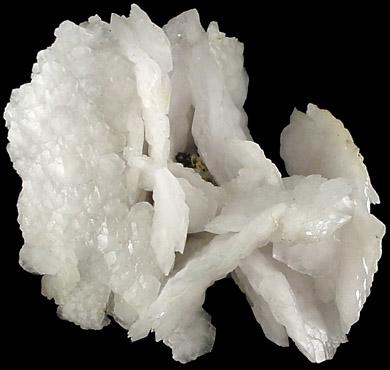calcite: (4, 5, 386, 364)
